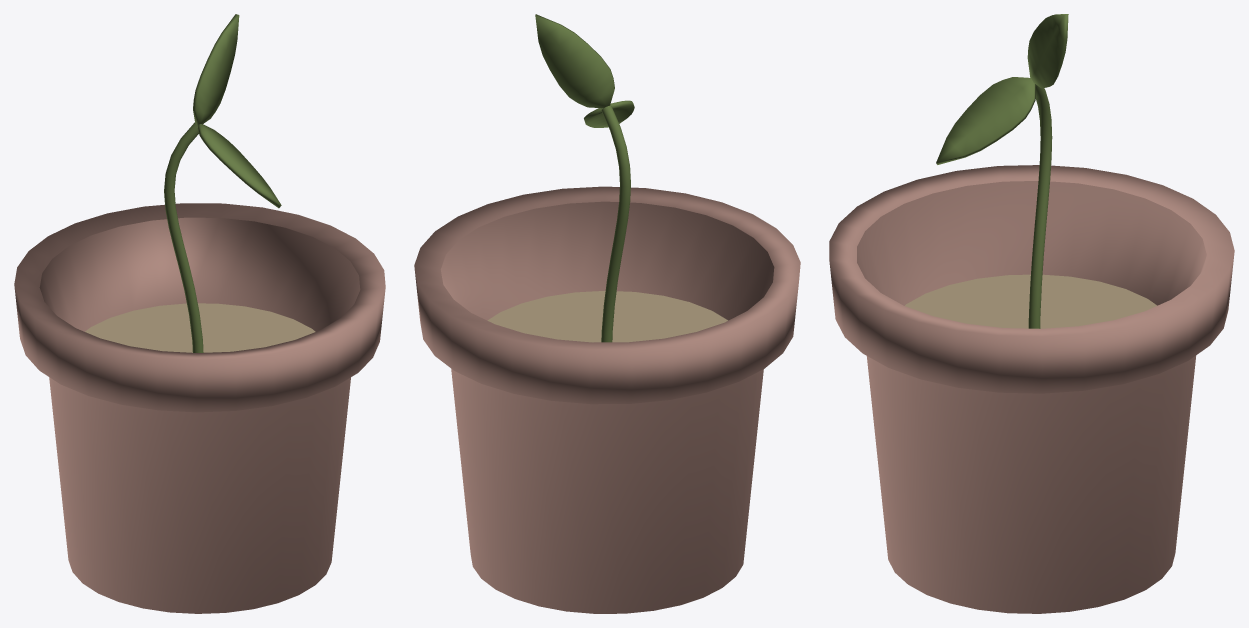
The model's file is FlowerPot.fbx.
3 views of the same model, side by side, from view 1: azimuth 30°, elevation 25°; view 2: azimuth 150°, elevation 25°; view 3: azimuth 270°, elevation 25° (orthographic). The views are drawn at different scales.
Visible parts, largest first — view 1: BezierCurve; view 2: BezierCurve; view 3: BezierCurve.
Part boxes in pixels (box(x1,y1,x2,y2)): BezierCurve: box(14, 14, 385, 613); BezierCurve: box(414, 14, 800, 613); BezierCurve: box(829, 14, 1234, 613).
Bounding box in the file's own units: 0.1973 × 0.3042 × 0.197.
